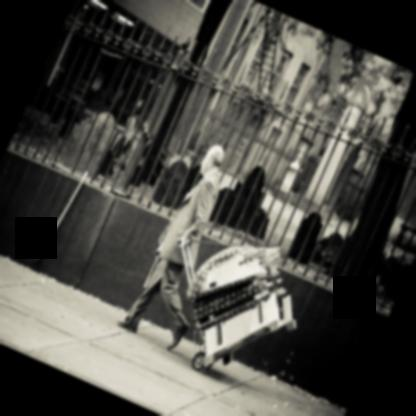suitcase: (192, 278, 282, 322)
